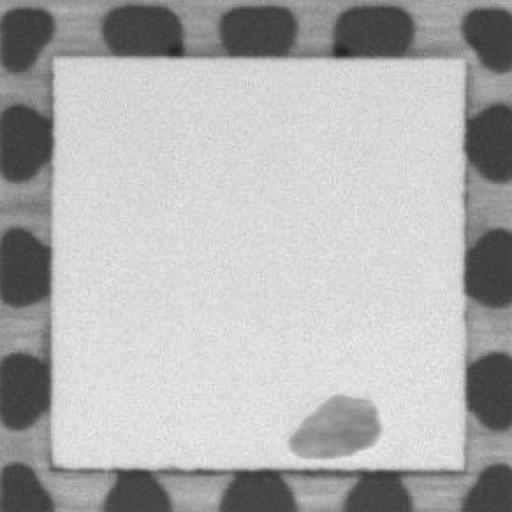DIE_INK: (272, 386, 391, 466)
